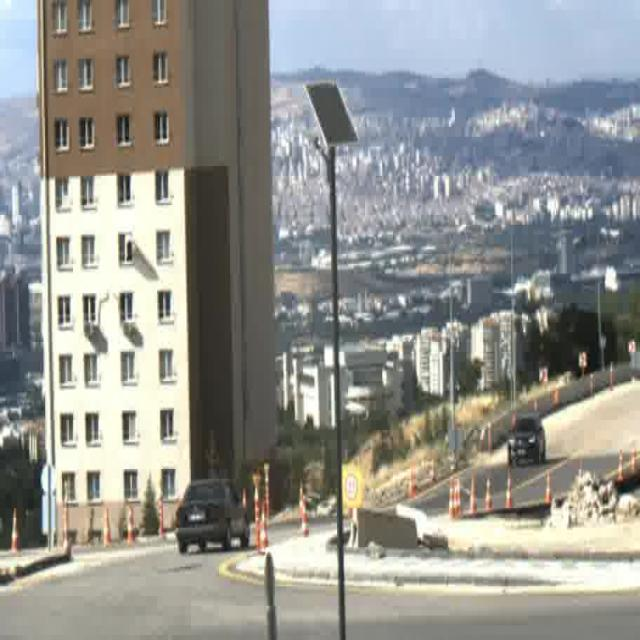Car: (176, 477, 250, 551), (508, 414, 545, 465)
